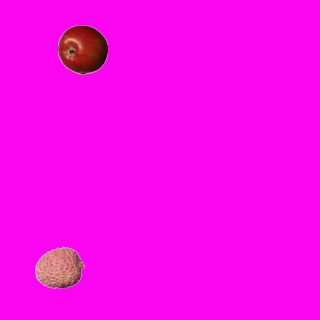Apple Braeburn: (57, 24, 107, 74)
Lychee: (34, 242, 84, 292)
